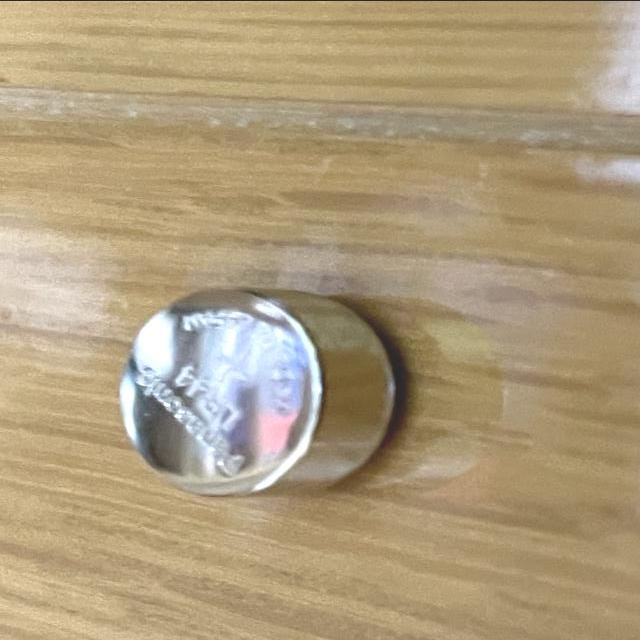COIN: (117, 284, 401, 498)
